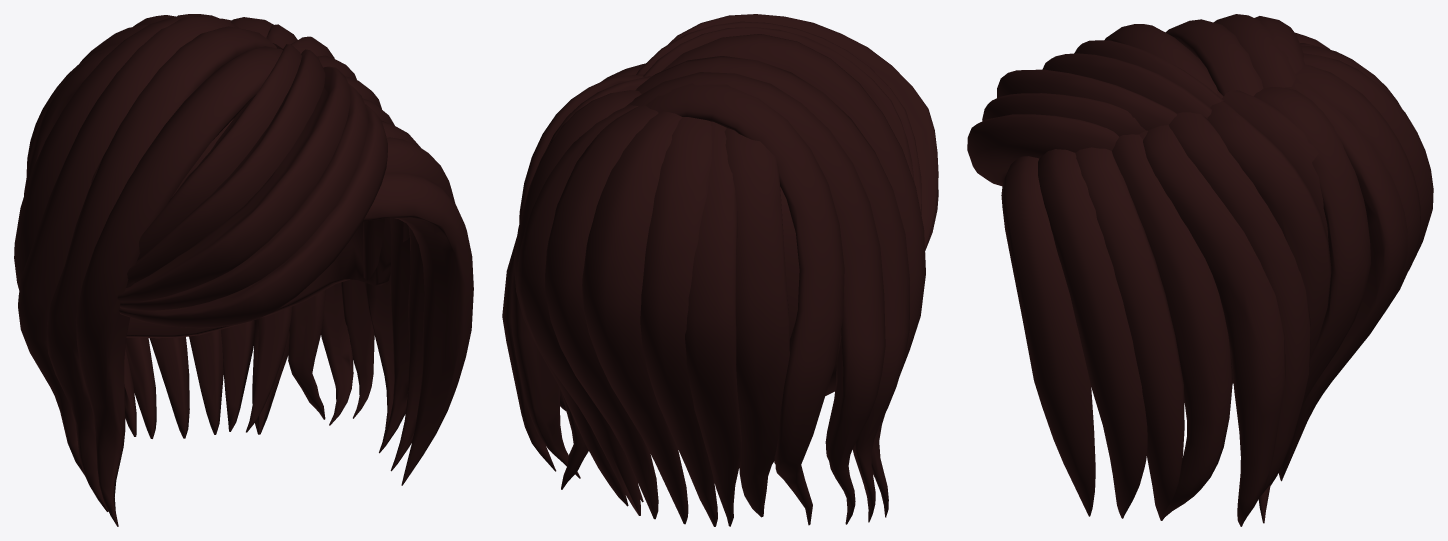
File: hair-2-d373076c.glb
3 views of the same model, side by side, from view 1: azimuth 30°, elevation 25°; view 2: azimuth 150°, elevation 25°; view 3: azimuth 270°, elevation 25° (orthographic). The views are drawn at different scales.
Parts seen in each view (by area): view 1: hair_2.001; view 2: hair_2.001; view 3: hair_2.001.
Boxes of the visible parts, <box> form: hair_2.001: <box>14,14,473,526</box>; hair_2.001: <box>502,14,938,526</box>; hair_2.001: <box>967,14,1433,526</box>.
Size of the model in its own units: 2.05 by 2.36 by 2.32.
